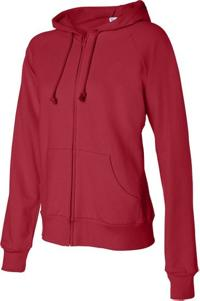C_jacket: (1, 3, 200, 298)
